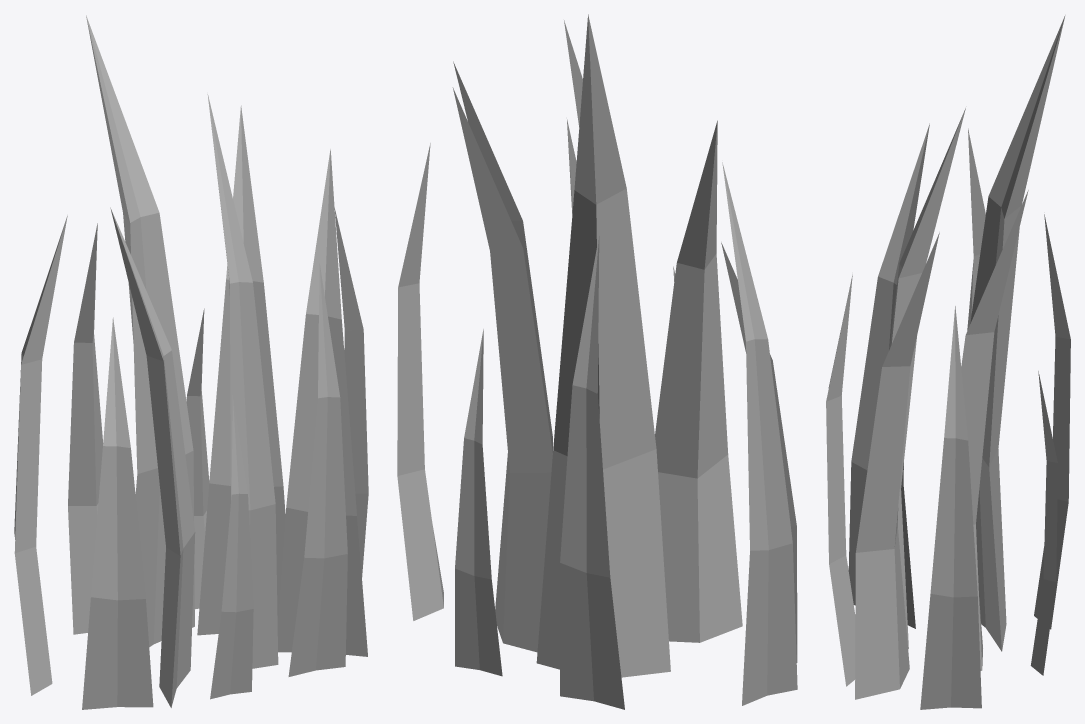
The model's file is Grass_03.fbx.
3 views of the same model, side by side, from view 1: azimuth 30°, elevation 25°; view 2: azimuth 150°, elevation 25°; view 3: azimuth 270°, elevation 25° (orthographic). The views are drawn at different scales.
Visible parts, largest first — view 1: Grass_03; view 2: Grass_03; view 3: Grass_03.
Boxes of the visible parts, x1,y1,x2,y2 form: Grass_03: [14, 15, 368, 709]; Grass_03: [397, 14, 797, 709]; Grass_03: [826, 15, 1070, 709].
Size of the model in its own units: 0.2721 by 0.4642 by 0.1711.
